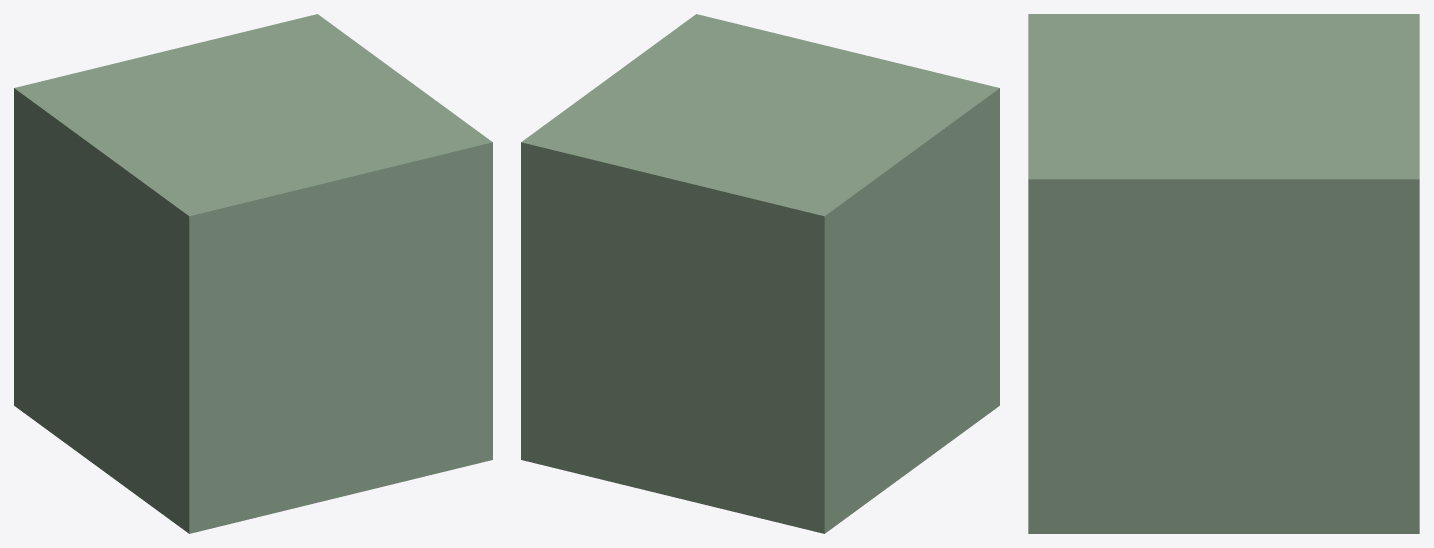
Rendered from Climb_Full.glb.
3 renders of one model, left to right at view 1: azimuth 30°, elevation 25°; view 2: azimuth 150°, elevation 25°; view 3: azimuth 270°, elevation 25°, orthographic. The views are drawn at different scales.
Parts seen in each view (by area): view 1: Climb_Full_body; view 2: Climb_Full_body; view 3: Climb_Full_body.
Part boxes in pixels (x1,y1,x2,y2): Climb_Full_body: (14, 14, 492, 533); Climb_Full_body: (521, 14, 999, 533); Climb_Full_body: (1028, 14, 1419, 533).
Bounding box in the file's own units: 1 × 1 × 1.
